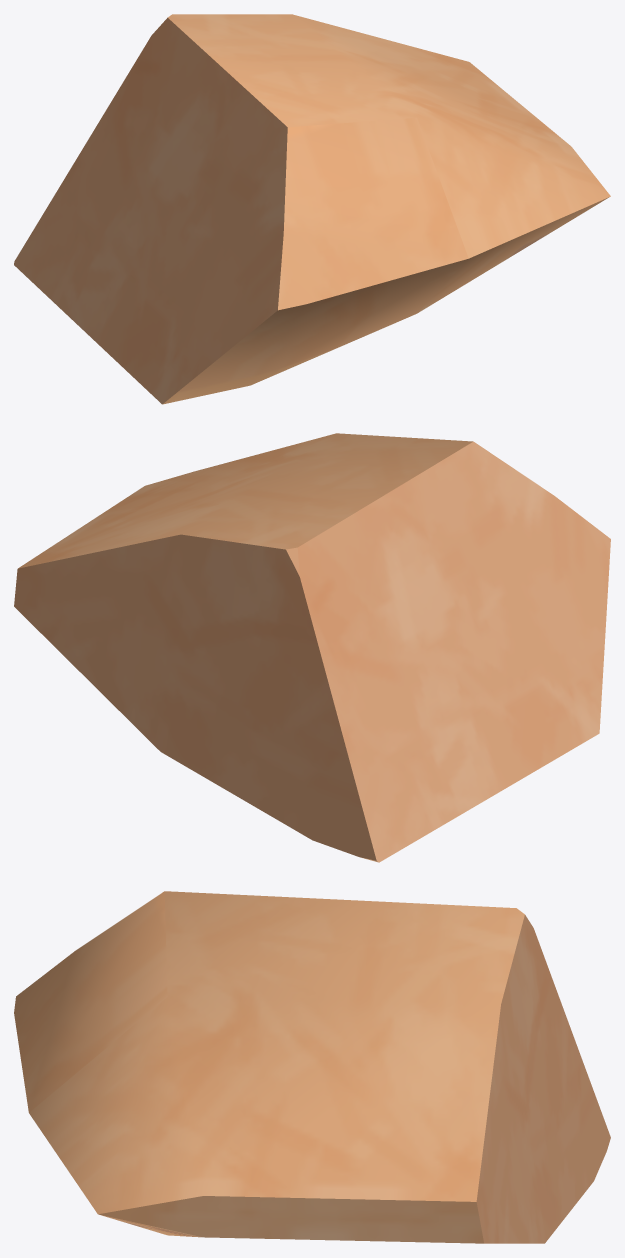
The model's file is sacks_s04.fbx.
3 renders of one model, top to bottom at view 1: azimuth 30°, elevation 25°; view 2: azimuth 150°, elevation 25°; view 3: azimuth 270°, elevation 25°, orthographic. The views are drawn at different scales.
Visible parts, largest first — view 1: sacks_s04; view 2: sacks_s04; view 3: sacks_s04.
Part boxes in pixels (x1,y1,x2,y2): sacks_s04: (14,14,610,404); sacks_s04: (14,433,610,862); sacks_s04: (14,891,610,1243).
Bounding box in the file's own units: 1.55 × 0.8506 × 1.52.
